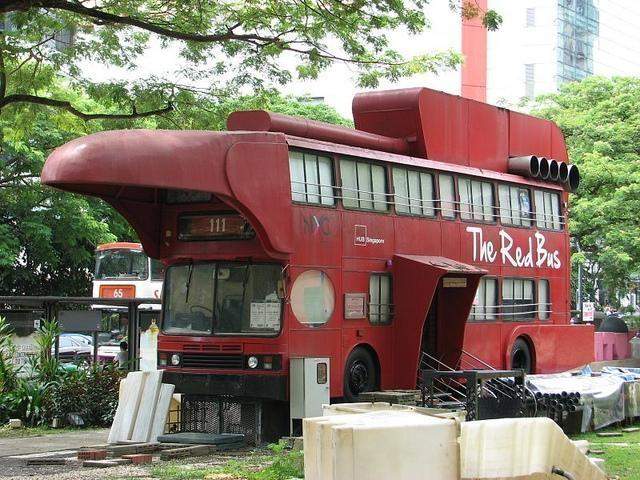bus: (32, 88, 592, 404), (90, 244, 164, 313)
car: (51, 336, 92, 370), (96, 346, 125, 364), (58, 334, 92, 346)
